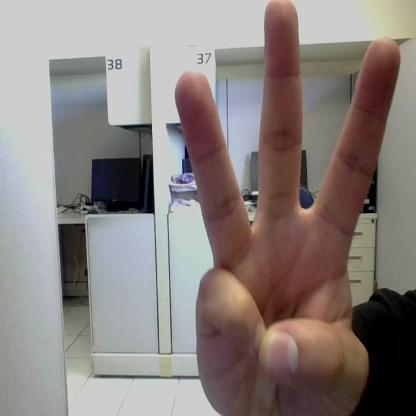W: (177, 1, 400, 414)
